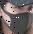with_mask: (1, 2, 33, 34)
